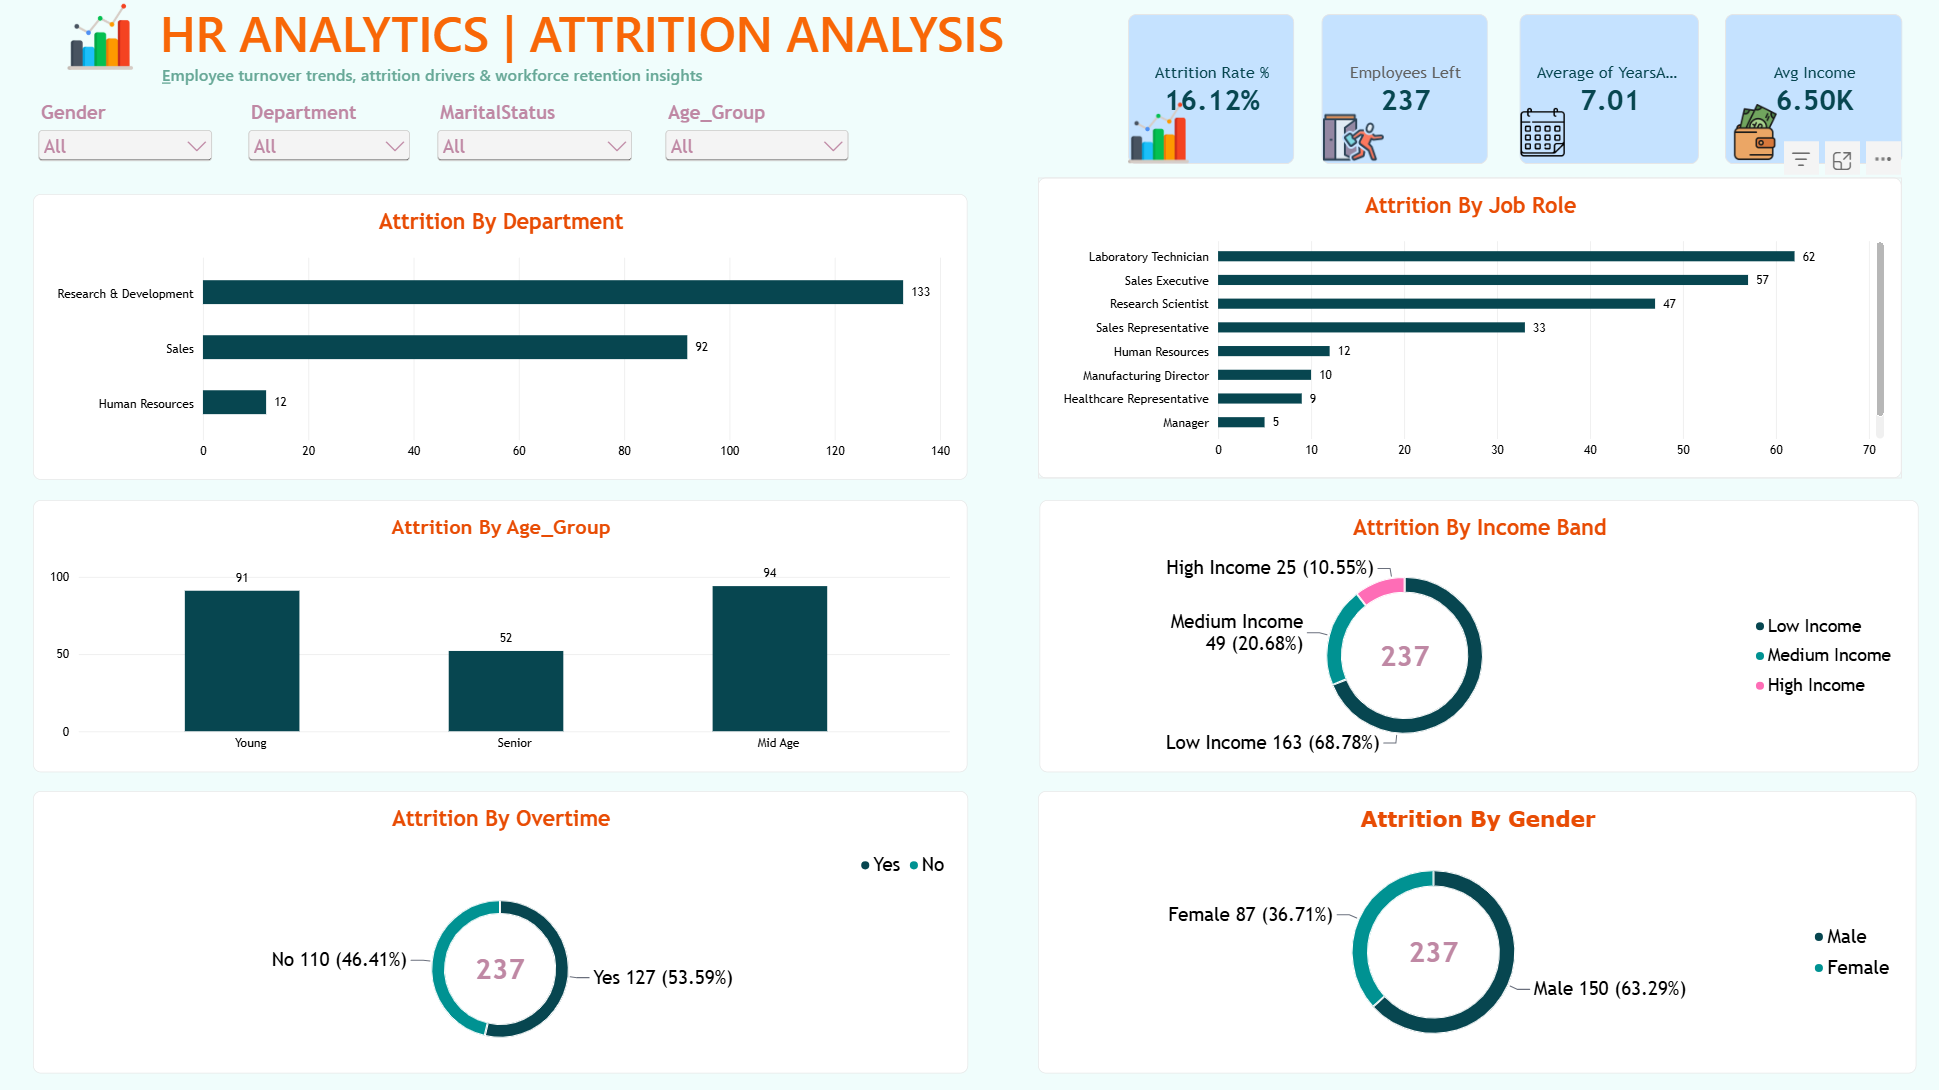

The page's visual inventory and layout, read from the dashboard file:
{"tool":"powerbi","page":{"name":"Attrition Analysis","canvas":[1920,1080],"ordinal":1},"visuals":[{"type":"textbox","box":[71.7,0,1320.8,125.1],"z":0},{"type":"textbox","box":[165.1,63.4,1227.4,40],"z":1000},{"type":"cardVisual","fields":{"Data":["analytics_db employee_attrition.Attrition Rate %"]},"box":[1119.2,15.3,164.2,149],"z":2000},{"type":"cardVisual","fields":{"Data":["analytics_db employee_attrition.Employees Left"]},"box":[1310.1,15.3,164.2,149],"z":3000},{"type":"cardVisual","fields":{"Data":["analytics_db employee_attrition.Avg Monthly Income"]},"box":[1707.4,15.3,175.7,149],"z":4000},{"type":"cardVisual","fields":{"Data":["Avg(analytics_db employee_attrition.YearsAtCompany)"]},"box":[1504.9,15.3,177.6,149],"z":5000},{"type":"clusteredBarChart","title":"Attrition By Department","fields":{"Category":["analytics_db employee_attrition.Department"],"Y":["analytics_db employee_attrition.Employees Left"]},"box":[38.4,191.8,922.2,281.8],"z":6000},{"type":"clusteredBarChart","title":"Attrition By Job Role","fields":{"Category":["analytics_db employee_attrition.JobRole"],"Y":["analytics_db employee_attrition.Employees Left"]},"box":[1030.6,176.8,852.2,296.8],"z":7000},{"type":"columnChart","title":"Attrition By Age_Group","fields":{"Category":["analytics_db employee_attrition.Age_Group"],"Y":["analytics_db employee_attrition.Employees Left"]},"box":[38.4,493.6,922.2,268.5],"z":8000},{"type":"donutChart","title":"Attrition By Income Band","fields":{"Category":["analytics_db employee_attrition.Income_Band"],"Y":["analytics_db employee_attrition.Employees Left"]},"box":[1032.3,493.6,867.2,268.5],"z":9000},{"type":"donutChart","title":"Attrition By Overtime","fields":{"Category":["analytics_db employee_attrition.OverTime"],"Y":["analytics_db employee_attrition.Employees Left"]},"box":[38,781.5,922.3,278.4],"z":10000},{"type":"donutChart","title":"Attrition By Gender","fields":{"Category":["analytics_db employee_attrition.Gender"],"Y":["analytics_db employee_attrition.Employees Left"]},"box":[1029.9,781.5,867,278.4],"z":11000},{"type":"slicer","fields":{"Values":["analytics_db employee_attrition.Gender"]},"box":[38.2,101.2,181.4,78.3],"z":12000},{"type":"slicer","fields":{"Values":["analytics_db employee_attrition.Department"]},"box":[246.4,101.2,170,78.3],"z":13000},{"type":"slicer","fields":{"Values":["analytics_db employee_attrition.MaritalStatus"]},"box":[431.6,101.2,202.4,63],"z":14000},{"type":"slicer","fields":{"Values":["analytics_db employee_attrition.Age_Group"]},"box":[657,101.2,191,64.9],"z":15000},{"type":"image","box":[1119,101.7,60,60],"z":16000},{"type":"image","box":[1707.7,103.4,60,55],"z":17000},{"type":"image","box":[1310.8,106.7,60,60],"z":18000},{"type":"image","box":[1504.2,101.7,48.4,58.4],"z":19000},{"type":"image","box":[72.6,0,64.9,74.5],"z":19001}]}

Visuals, with their boxes in screenshot pixels (x1, y1, x2, y2), scaled from the page's 1920x1080 canvas onto the 1939x1090 screenshot:
textbox: box=[72, 0, 1406, 126]
textbox: box=[167, 64, 1406, 104]
cardVisual - analytics_db employee_attrition.Attrition Rate %: box=[1130, 15, 1296, 166]
cardVisual - analytics_db employee_attrition.Employees Left: box=[1323, 15, 1489, 166]
cardVisual - analytics_db employee_attrition.Avg Monthly Income: box=[1724, 15, 1902, 166]
cardVisual - Avg(analytics_db employee_attrition.YearsAtCompany): box=[1520, 15, 1699, 166]
"Attrition By Department" clusteredBarChart: box=[39, 194, 970, 478]
"Attrition By Job Role" clusteredBarChart: box=[1041, 178, 1901, 478]
"Attrition By Age_Group" columnChart: box=[39, 498, 970, 769]
"Attrition By Income Band" donutChart: box=[1043, 498, 1918, 769]
"Attrition By Overtime" donutChart: box=[38, 789, 970, 1070]
"Attrition By Gender" donutChart: box=[1040, 789, 1916, 1070]
slicer - analytics_db employee_attrition.Gender: box=[39, 102, 222, 181]
slicer - analytics_db employee_attrition.Department: box=[249, 102, 421, 181]
slicer - analytics_db employee_attrition.MaritalStatus: box=[436, 102, 640, 166]
slicer - analytics_db employee_attrition.Age_Group: box=[664, 102, 856, 168]
image: box=[1130, 103, 1191, 163]
image: box=[1725, 104, 1785, 160]
image: box=[1324, 108, 1384, 168]
image: box=[1519, 103, 1568, 162]
image: box=[73, 0, 139, 75]
